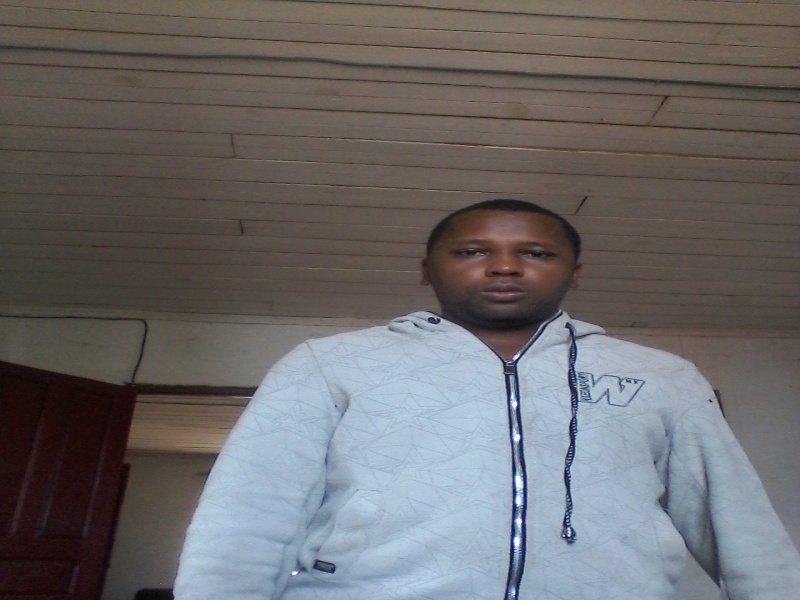TsisyArotava: (414, 178, 596, 342)
